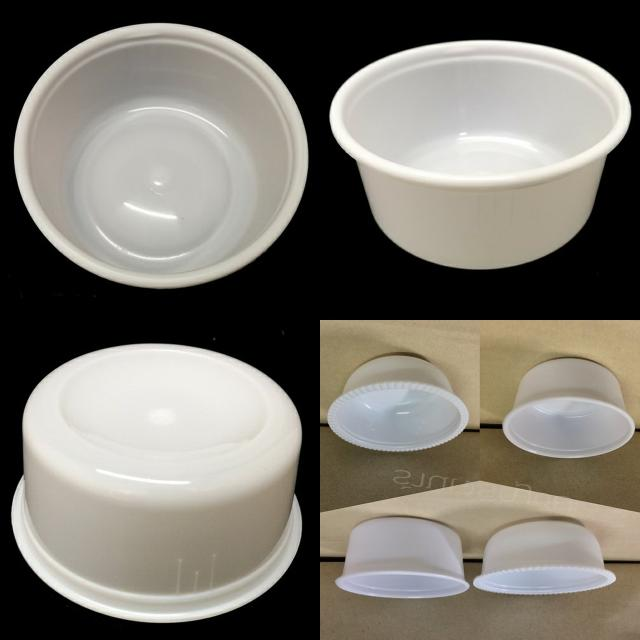Single-Use-Plastic: (11, 344, 302, 622), (15, 24, 308, 288), (330, 41, 630, 269), (328, 355, 469, 451), (502, 359, 635, 458), (336, 516, 469, 598), (335, 518, 469, 599), (474, 520, 615, 594)
